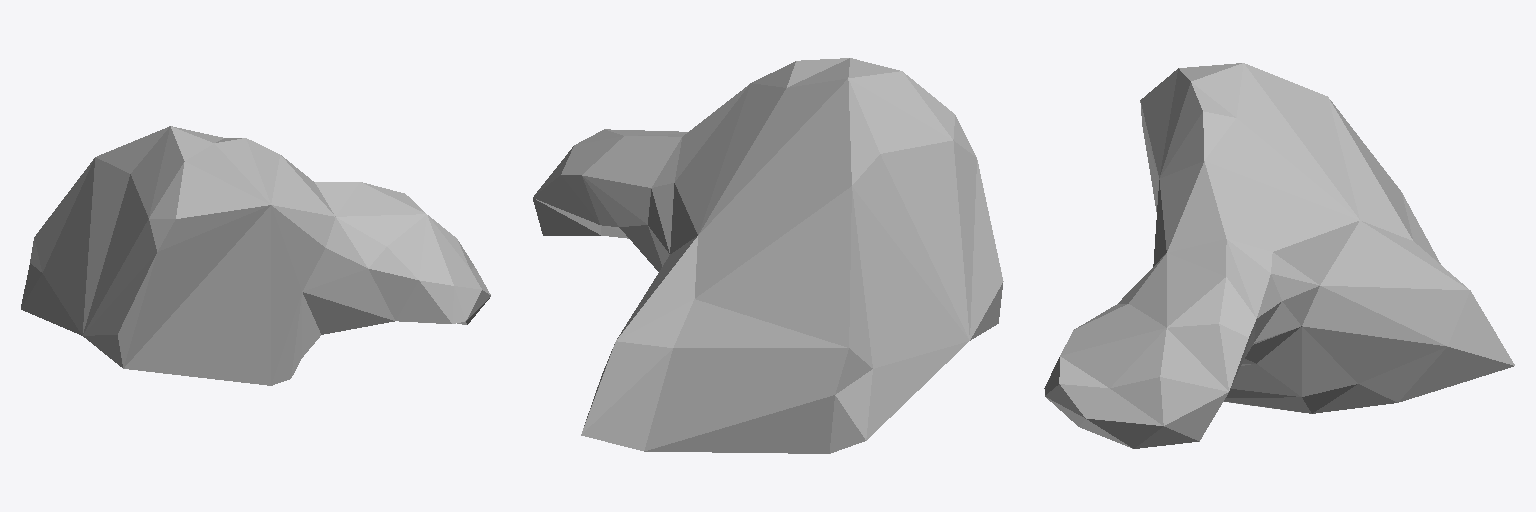
The robot description file, URDF, robot "root":
<?xml version='1.0' encoding='utf-8'?>
<robot name="root">
  <link name="link_001">
    <visual>
      <origin xyz="0 0 0" rpy="0 0 0" />
      <geometry>
        <mesh filename="1fc00ff0e8a291a45dc31ef7c9847ac607229c46c3fe187106948f2500368c62_scale_409.stl" scale="1.0000E+00 1.0000E+00 1.0000E+00" />
      </geometry>
      <material name="">
        <color rgba="7.50E-01 7.50E-01 7.50E-01 1" />
      </material>
    </visual>
    <collision>
      <origin xyz="0 0 0" rpy="0 0 0" />
      <geometry>
        <mesh filename="1fc00ff0e8a291a45dc31ef7c9847ac607229c46c3fe187106948f2500368c62_scale_409.stl" scale="1.0000E+00 1.0000E+00 1.0000E+00" />
      </geometry>
    </collision>
  </link>
</robot>

--- Render facts (derived) ---
The picture shows the robot from 3 angles, left to right: view 1: azimuth 30°, elevation 25°; view 2: azimuth 150°, elevation 25°; view 3: azimuth 270°, elevation 25°; orthographic projection.
Robot: root — 1 links, 0 joints (none); root link link_001; default pose: every joint at zero.
Visible links, largest first — view 1: link_001; view 2: link_001; view 3: link_001.
Boxes of the visible links, <box> form: link_001: <box>21,126,490,385</box>; link_001: <box>533,58,1003,453</box>; link_001: <box>1044,63,1514,448</box>.
Bounding box of the posed robot: 0.1025 × 0.0995 × 0.0697 m (x, y, z).
Meshes: 1 distinct files referenced, 1 mesh visuals loaded (1 binary STL).
